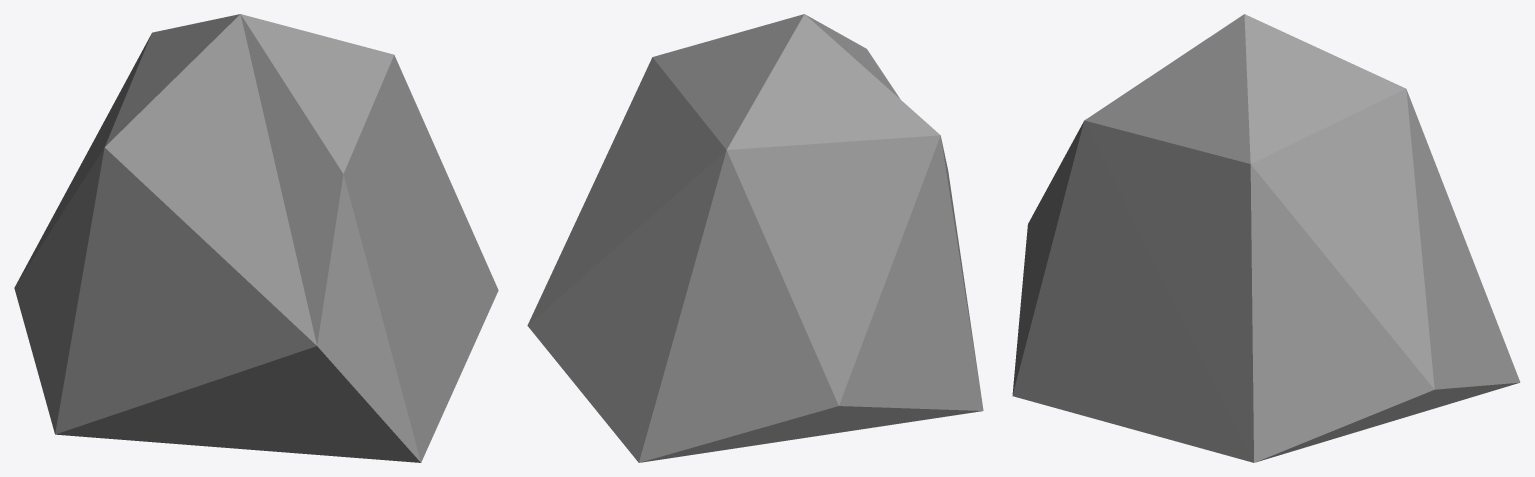
The model's file is small_rock.glb.
3 renders of one model, left to right at view 1: azimuth 30°, elevation 25°; view 2: azimuth 150°, elevation 25°; view 3: azimuth 270°, elevation 25°, orthographic. The views are drawn at different scales.
Visible parts, largest first — view 1: rock02_Mesh_007_Base_0.1348; view 2: rock02_Mesh_007_Base_0.1348; view 3: rock02_Mesh_007_Base_0.1348.
Boxes of the visible parts, x1,y1,x2,y2 form: rock02_Mesh_007_Base_0.1348: (14,14,498,462); rock02_Mesh_007_Base_0.1348: (527,14,983,462); rock02_Mesh_007_Base_0.1348: (1012,14,1520,462).
Size of the model in its own units: 1.01 by 0.8031 by 1.04.
1 material, 1 textured.
